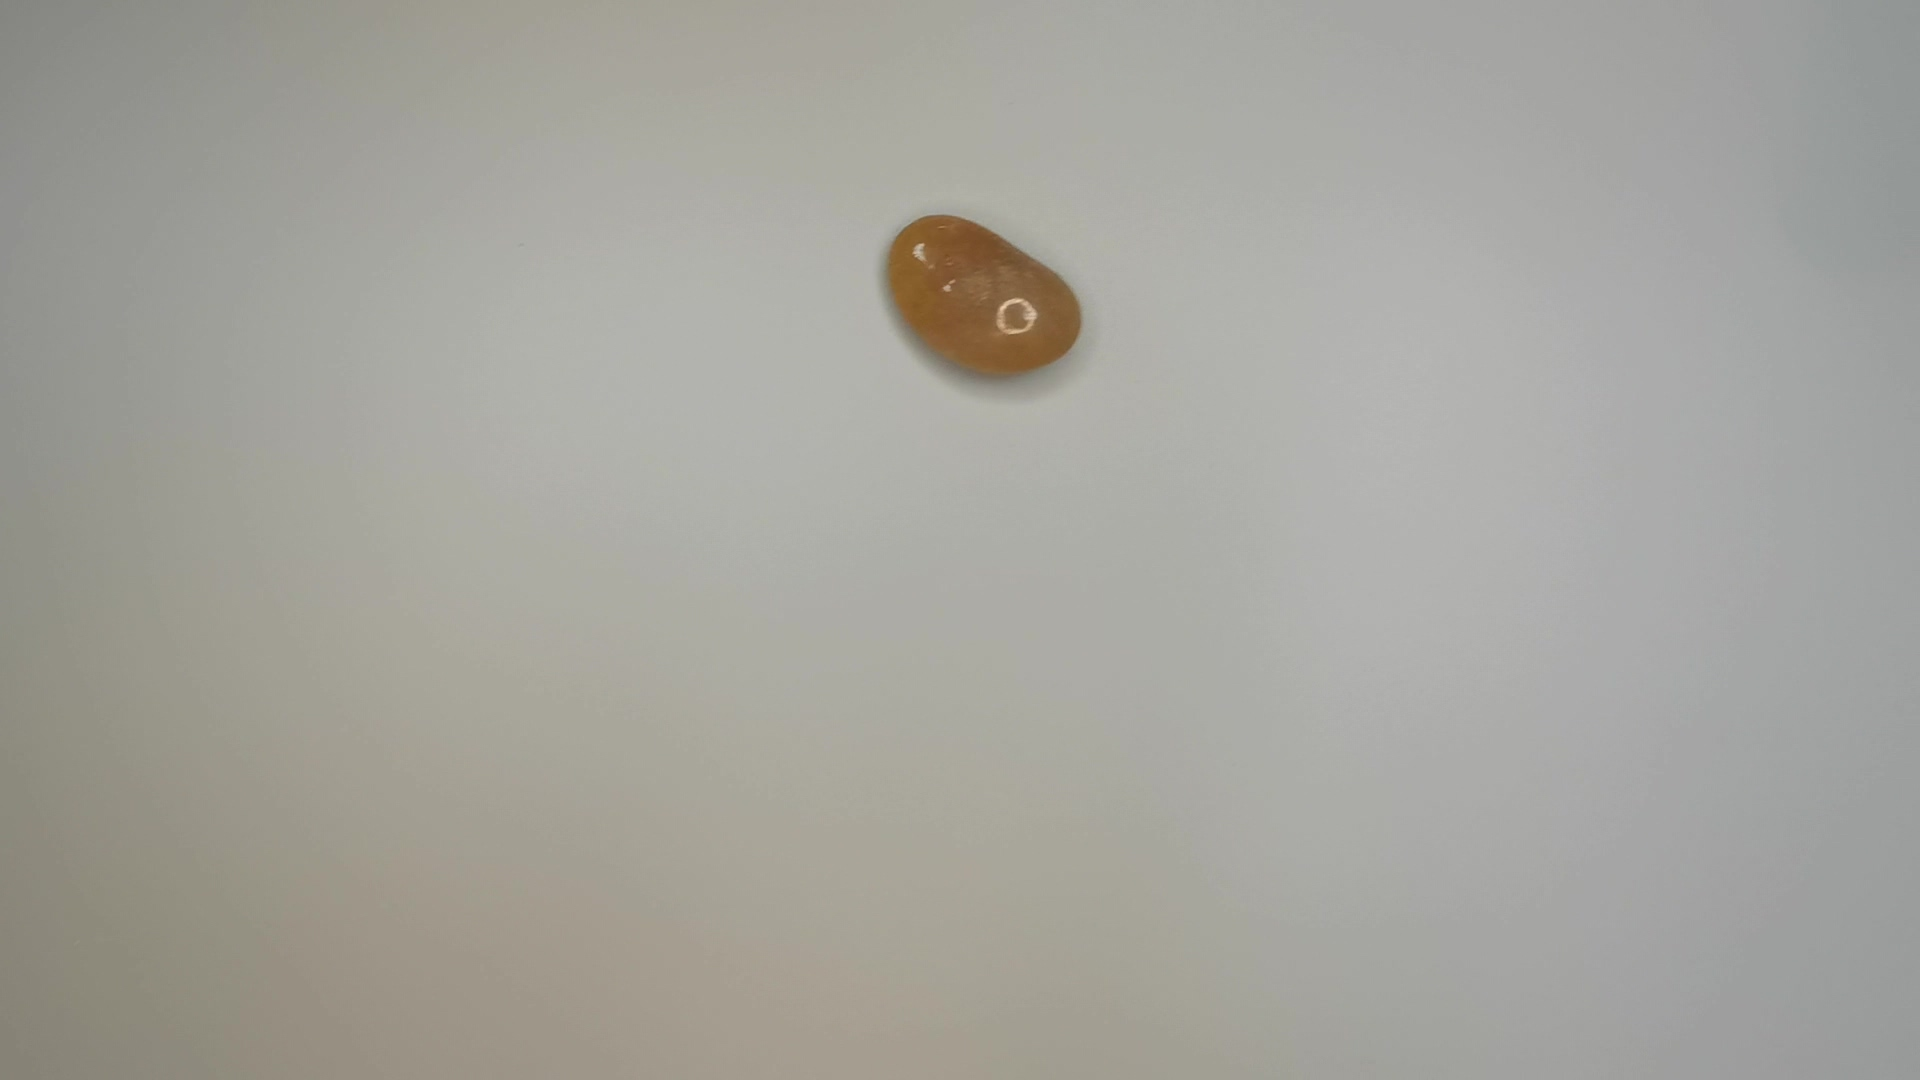ceramic: (877, 211, 1096, 392)
